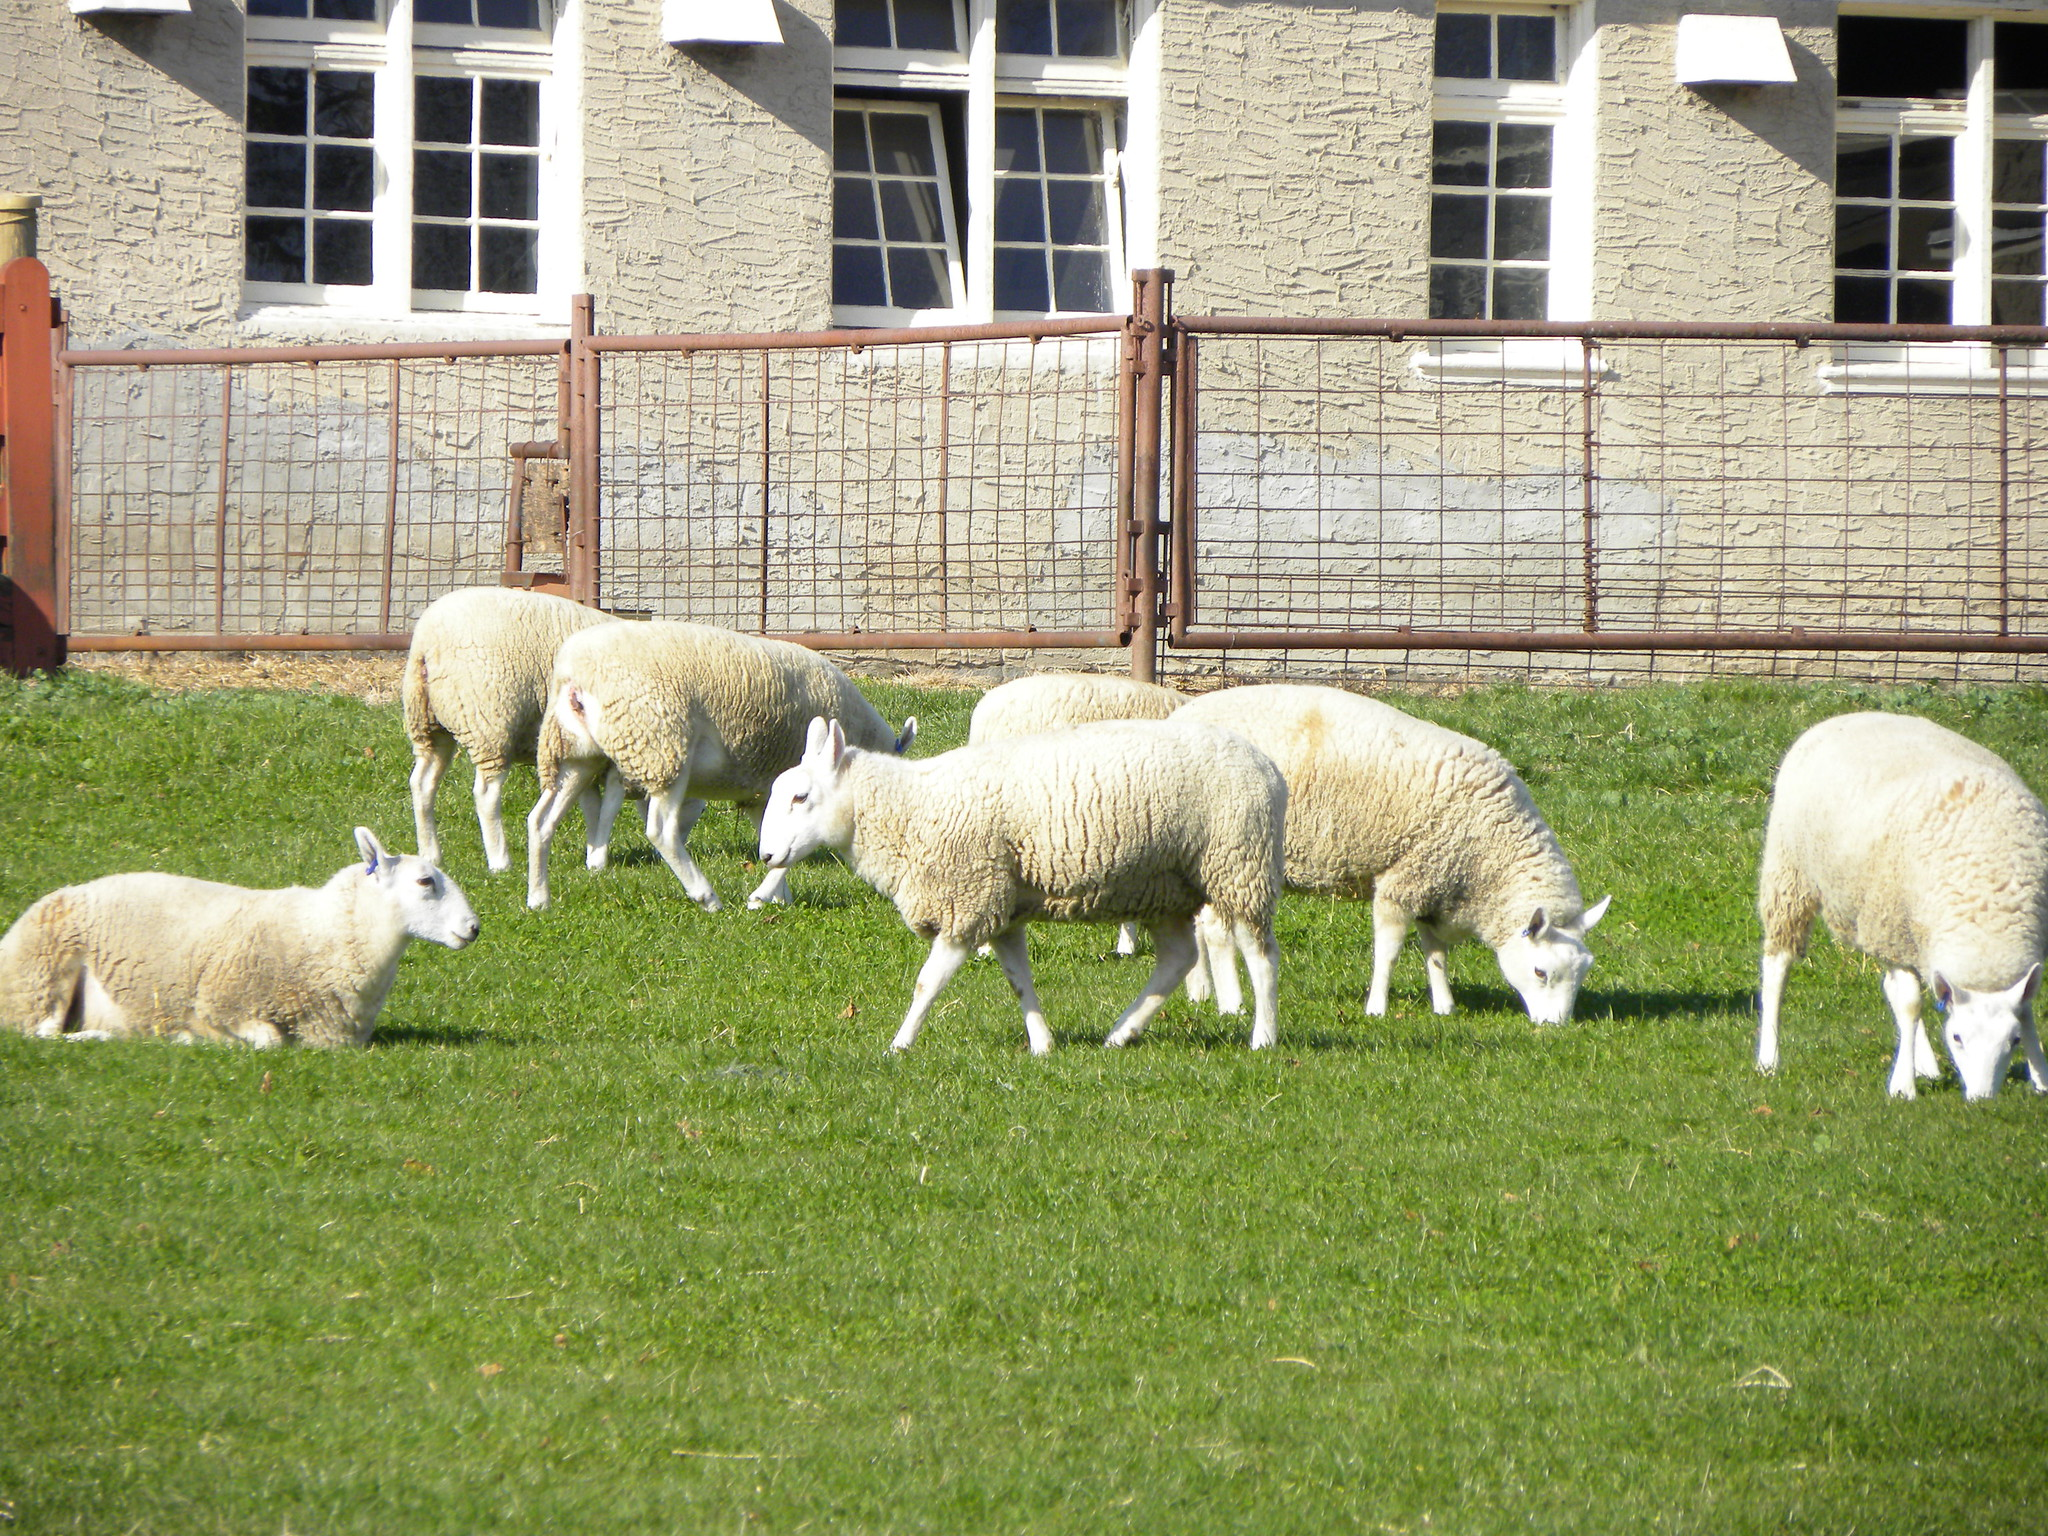sheep: (751, 712, 1292, 1062), (1255, 686, 1646, 1054), (1746, 691, 2048, 1105), (2, 842, 489, 1070)
